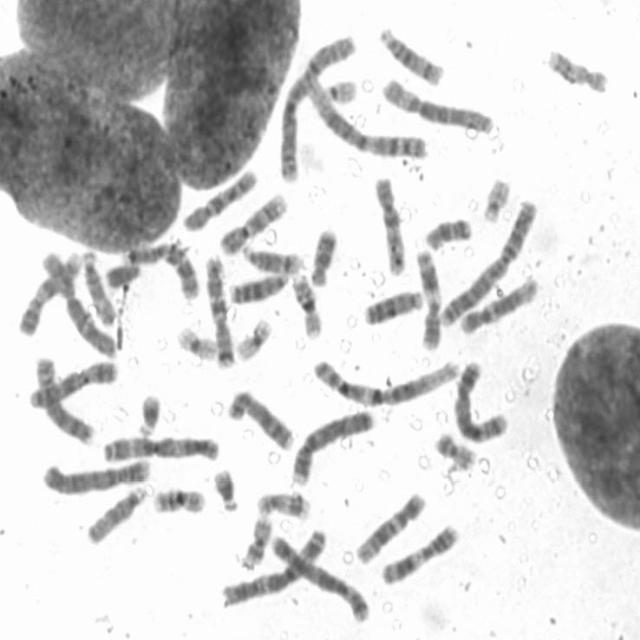A1: (300, 71, 429, 161), (306, 349, 463, 408)
A2: (439, 192, 542, 330), (273, 28, 357, 185)
A3: (217, 523, 329, 610), (98, 428, 224, 464)
B4: (288, 403, 377, 487), (38, 450, 154, 498)
B5: (266, 527, 373, 624), (447, 354, 511, 444)
C10: (178, 163, 260, 234), (368, 170, 408, 277)
C11: (376, 518, 462, 586), (411, 245, 444, 351)
C12: (352, 484, 428, 565), (454, 270, 540, 336)
C6: (36, 244, 119, 360), (376, 70, 497, 136)
C7: (118, 236, 201, 300), (199, 248, 237, 370)
C8: (30, 349, 98, 447), (223, 384, 296, 452)
C9: (15, 246, 83, 338), (216, 189, 288, 256)
D13: (360, 282, 426, 328), (225, 264, 292, 306)
D14: (374, 20, 446, 87), (238, 238, 305, 275)
D15: (82, 479, 149, 547), (78, 245, 118, 326)
E16: (288, 267, 325, 340), (148, 480, 208, 517)
E17: (543, 42, 610, 94), (252, 484, 313, 521)
E18: (306, 222, 340, 288), (421, 210, 475, 251)
F19: (231, 312, 273, 363), (173, 320, 220, 362)
F20: (237, 509, 274, 571), (431, 426, 479, 470)
G21: (209, 462, 242, 514), (134, 387, 163, 438)
G22: (478, 170, 512, 225), (317, 72, 360, 106)
X: (25, 354, 121, 410)
Y: (102, 256, 143, 290)
